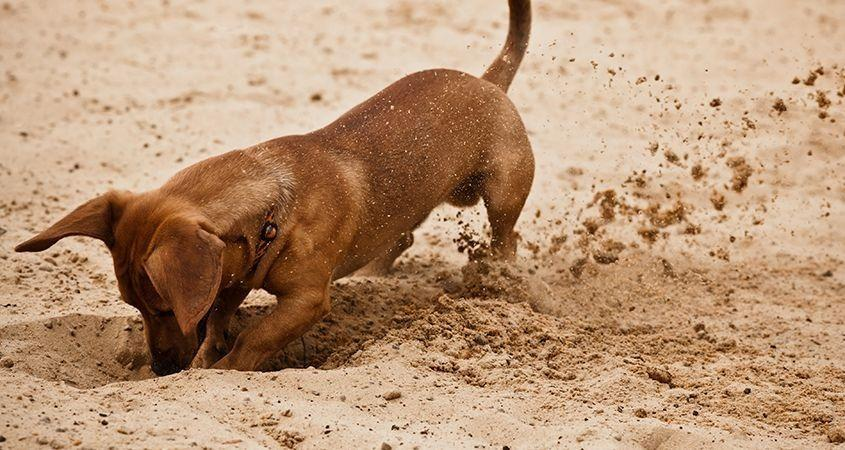adult_dog: (14, 0, 537, 378)
